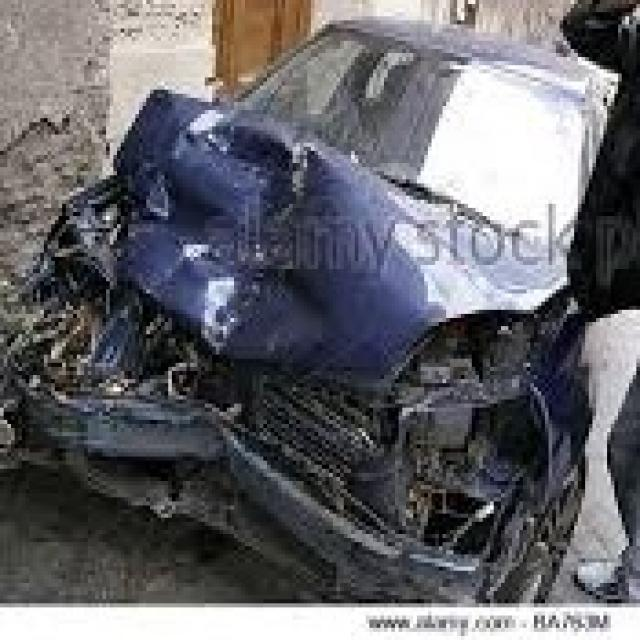severe: (0, 232, 592, 583)
